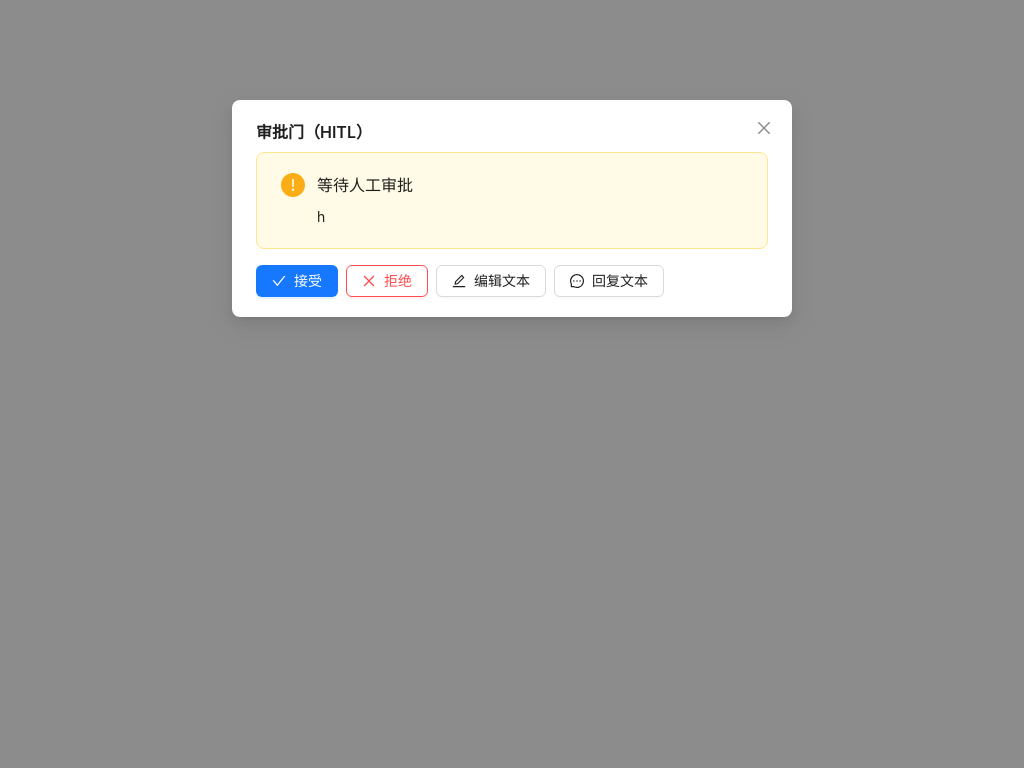
it: GateApprovalModal › 空白文本时提交按钮禁用
Click the button with test id "gate-edit-mode" at (491, 281), box [436,265,546,297]
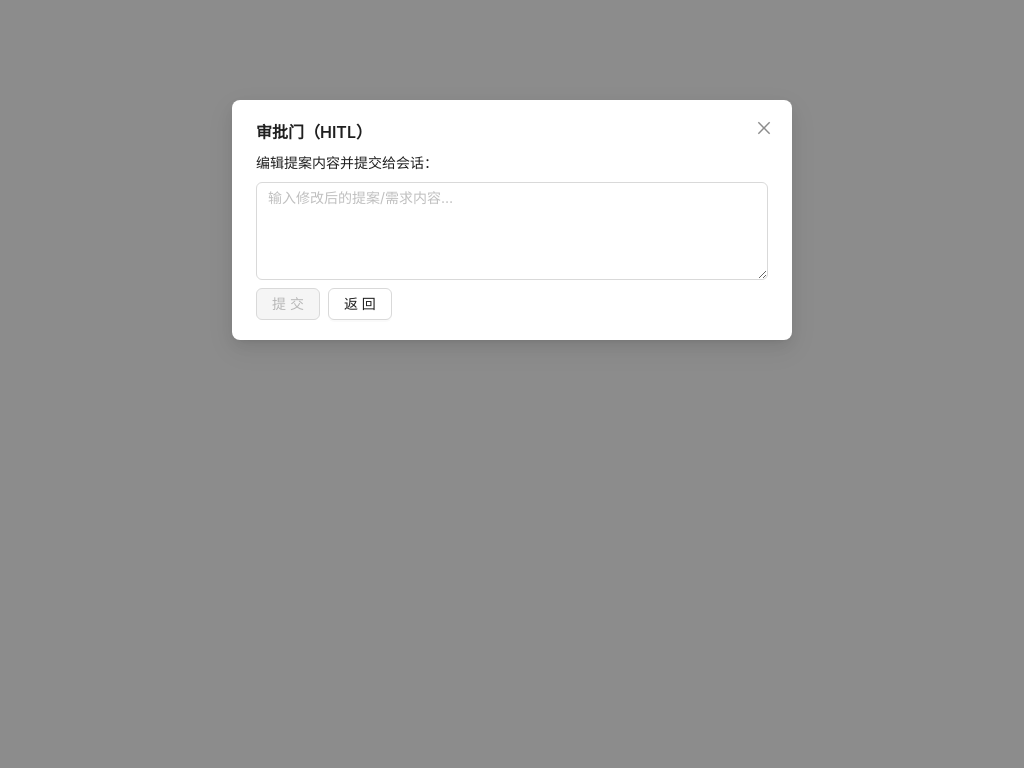
Now the button with test id "gate-text-submit" is disabled, box [256,288,320,320]
